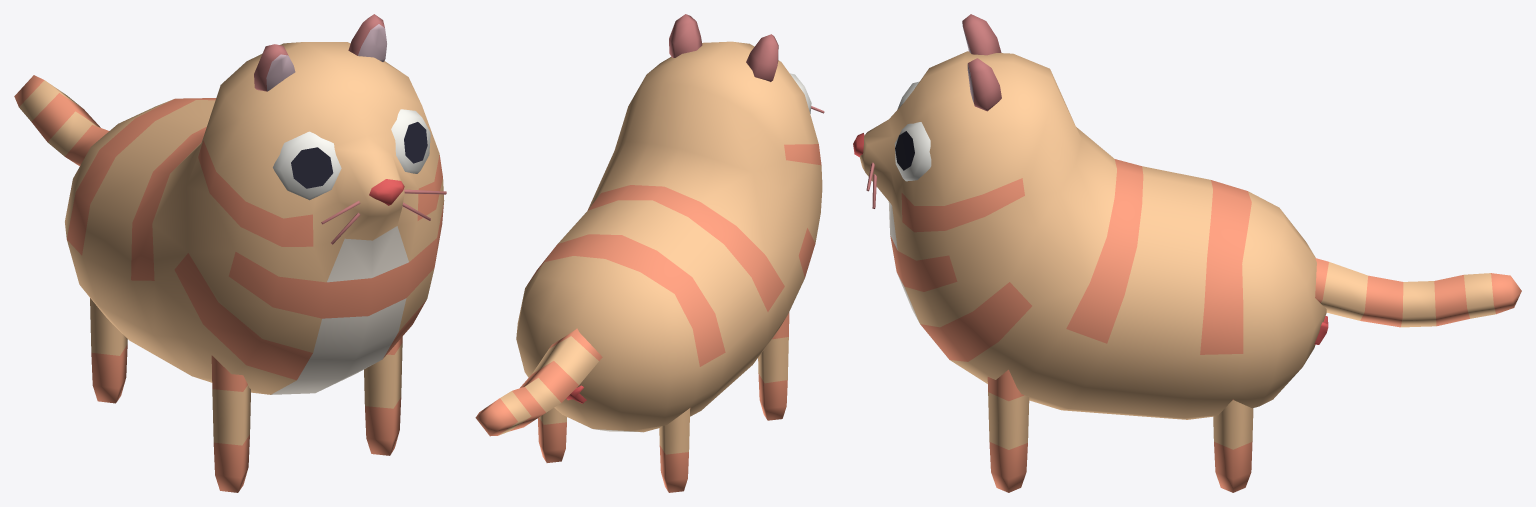
Rendered from Cat_LOD2.obj.
The picture shows the model from 3 angles, left to right: view 1: azimuth 30°, elevation 25°; view 2: azimuth 150°, elevation 25°; view 3: azimuth 270°, elevation 25°; orthographic projection. The views are drawn at different scales.
Visible parts, largest first — view 1: Cat_Cat.009; view 2: Cat_Cat.009; view 3: Cat_Cat.009.
Boxes of the visible parts, x1=… form: Cat_Cat.009: x1=14, y1=14, x2=446, y2=492; Cat_Cat.009: x1=475, y1=14, x2=824, y2=492; Cat_Cat.009: x1=853, y1=14, x2=1521, y2=492.
Size of the model in its own units: 1.16 by 2.08 by 2.99.
